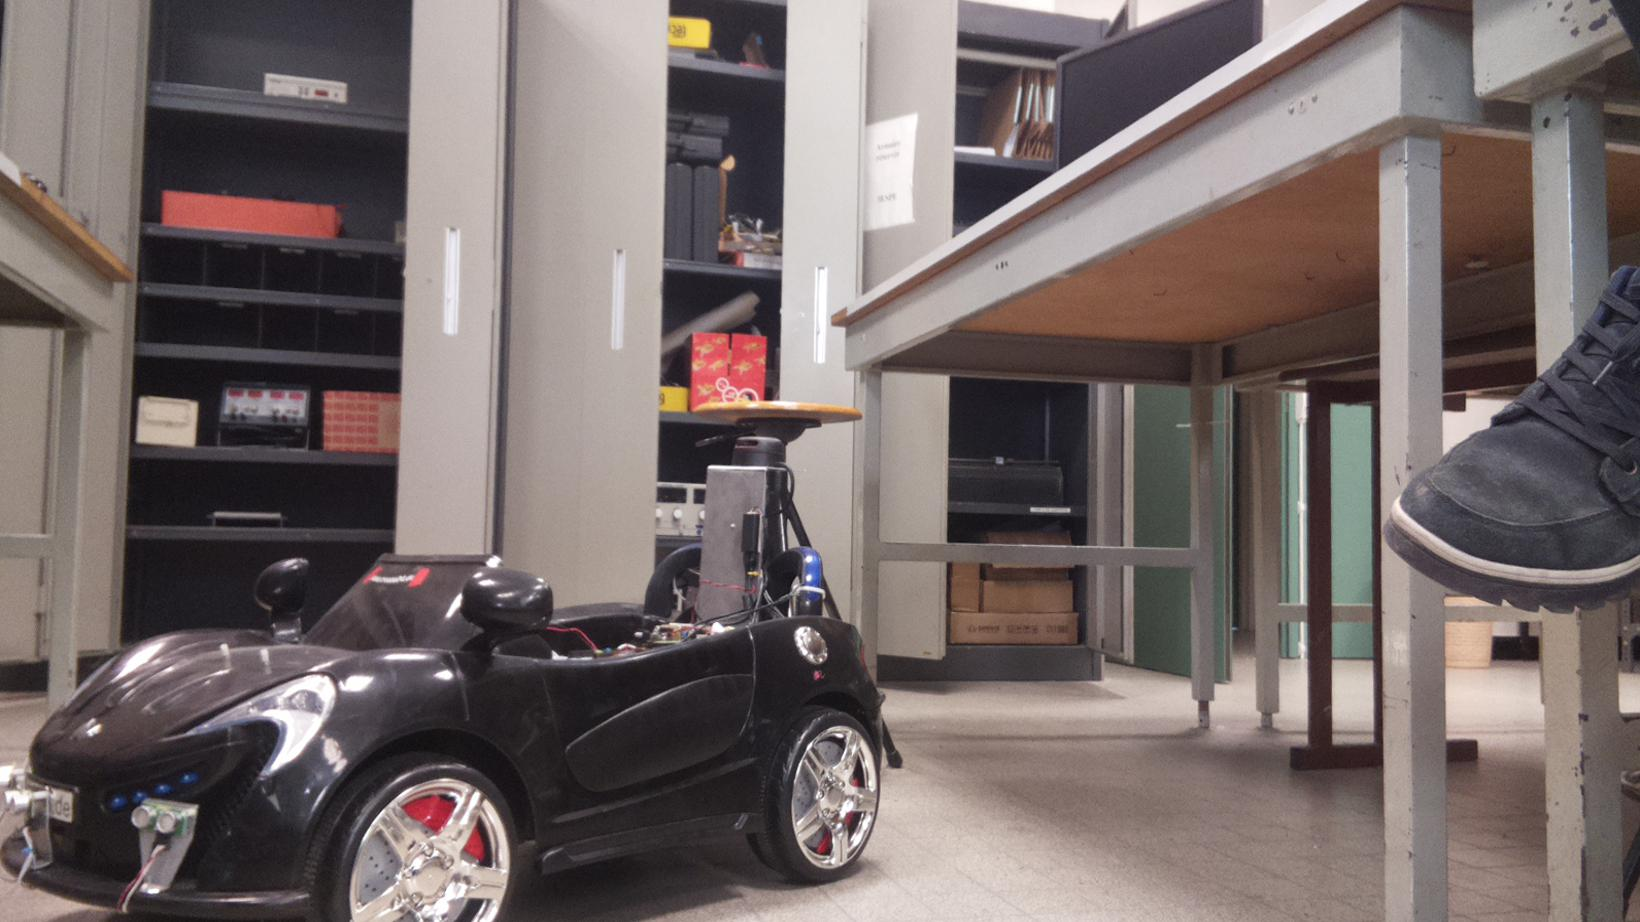big: (1, 431, 892, 921)
